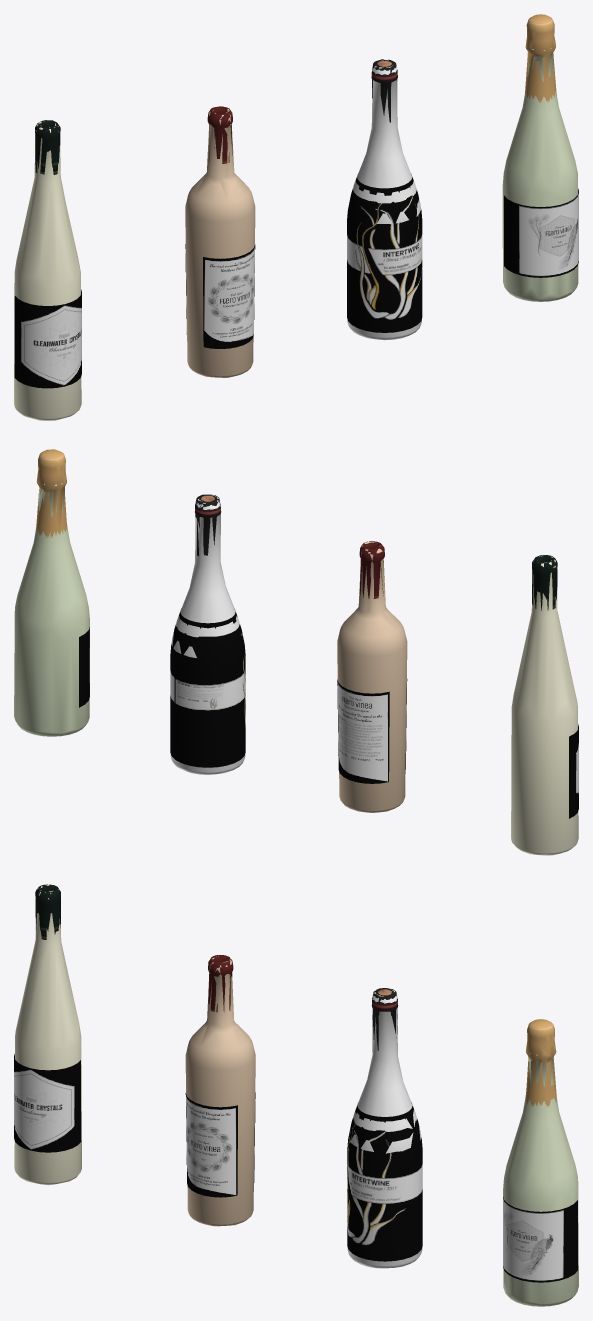
Rendered from wine_bottles_01.glb.
3 renders of one model, top to bottom at view 1: azimuth 30°, elevation 25°; view 2: azimuth 150°, elevation 25°; view 3: azimuth 330°, elevation 25°, orthographic.
Parts seen in each view (by area): view 1: wine_bottles_01_bordeaux, wine_bottles_01_burgundy, wine_bottles_01_alsace, wine_bottles_01_champagne; view 2: wine_bottles_01_bordeaux, wine_bottles_01_burgundy, wine_bottles_01_alsace, wine_bottles_01_champagne; view 3: wine_bottles_01_bordeaux, wine_bottles_01_burgundy, wine_bottles_01_alsace, wine_bottles_01_champagne.
Part boxes in pixels (x1,y1,x2,y2): wine_bottles_01_bordeaux: (14,14,578,420); wine_bottles_01_burgundy: (347,174,422,332); wine_bottles_01_alsace: (14,289,81,388); wine_bottles_01_champagne: (504,188,578,277); wine_bottles_01_bordeaux: (14,449,578,855); wine_bottles_01_burgundy: (170,608,245,767); wine_bottles_01_alsace: (569,724,578,818); wine_bottles_01_champagne: (79,627,89,707); wine_bottles_01_bordeaux: (14,884,578,1306); wine_bottles_01_burgundy: (347,1102,422,1261); wine_bottles_01_alsace: (14,1054,81,1152); wine_bottles_01_champagne: (503,1197,577,1282).
Size of the model in its own units: 0.6763 by 0.3314 by 0.0804.
9 materials, 6 textured.
